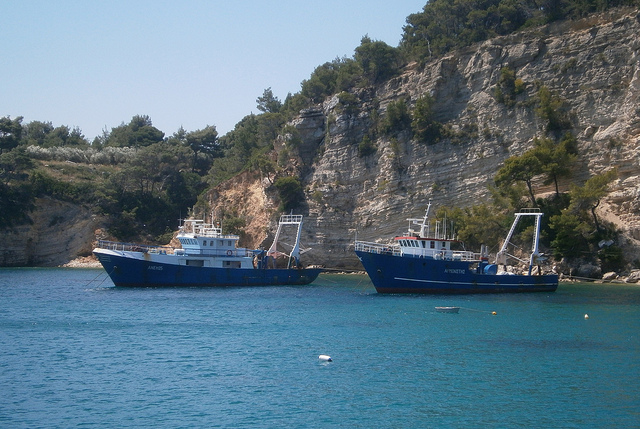fishing_boat: (90, 197, 327, 292), (358, 211, 572, 294)
